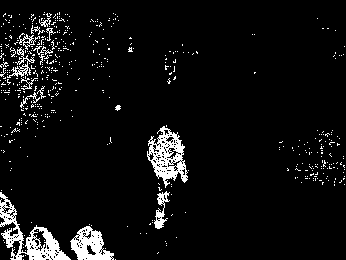person: (147, 126, 188, 229)
